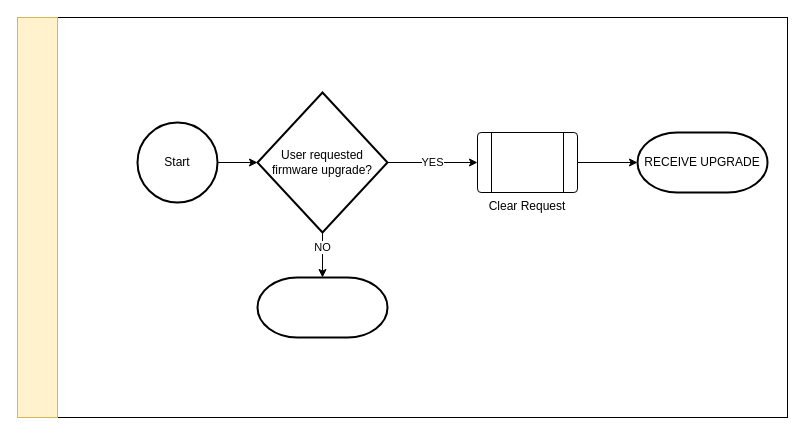
Image size: 805x435. Some labels were removed from this diagram. The shapes that lost their labels are listed below. From the top down, each one's centre as x and y in pixels, then its label:
At point 37,217: "RESET".
At point 322,307: "BOOTING".
